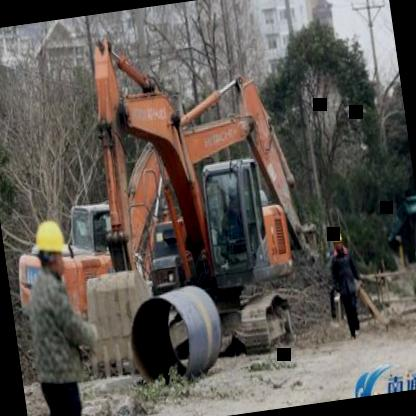helmet: (31, 216, 71, 280), (330, 226, 344, 253)
